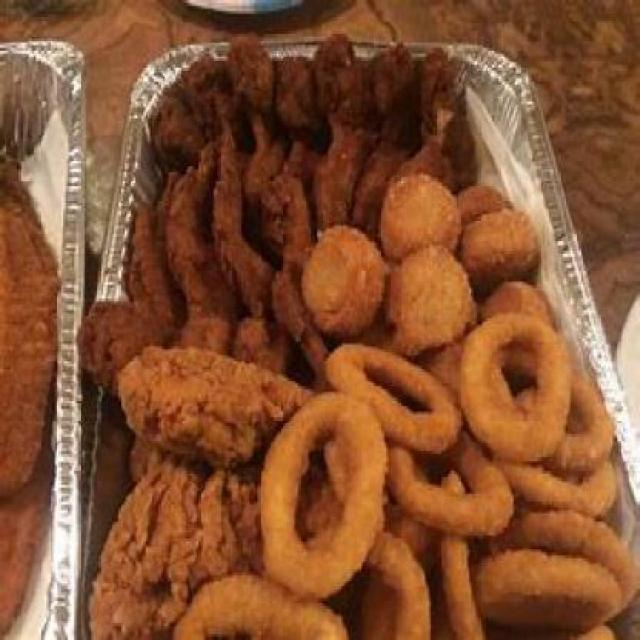chicken wings: (103, 37, 454, 341)
onion rings: (262, 349, 636, 637)
